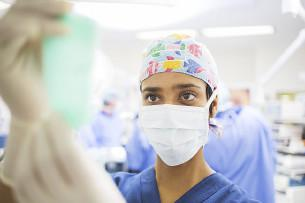OK: (137, 84, 211, 158)
